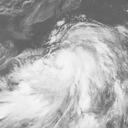cyclone: (22, 22, 108, 104)
